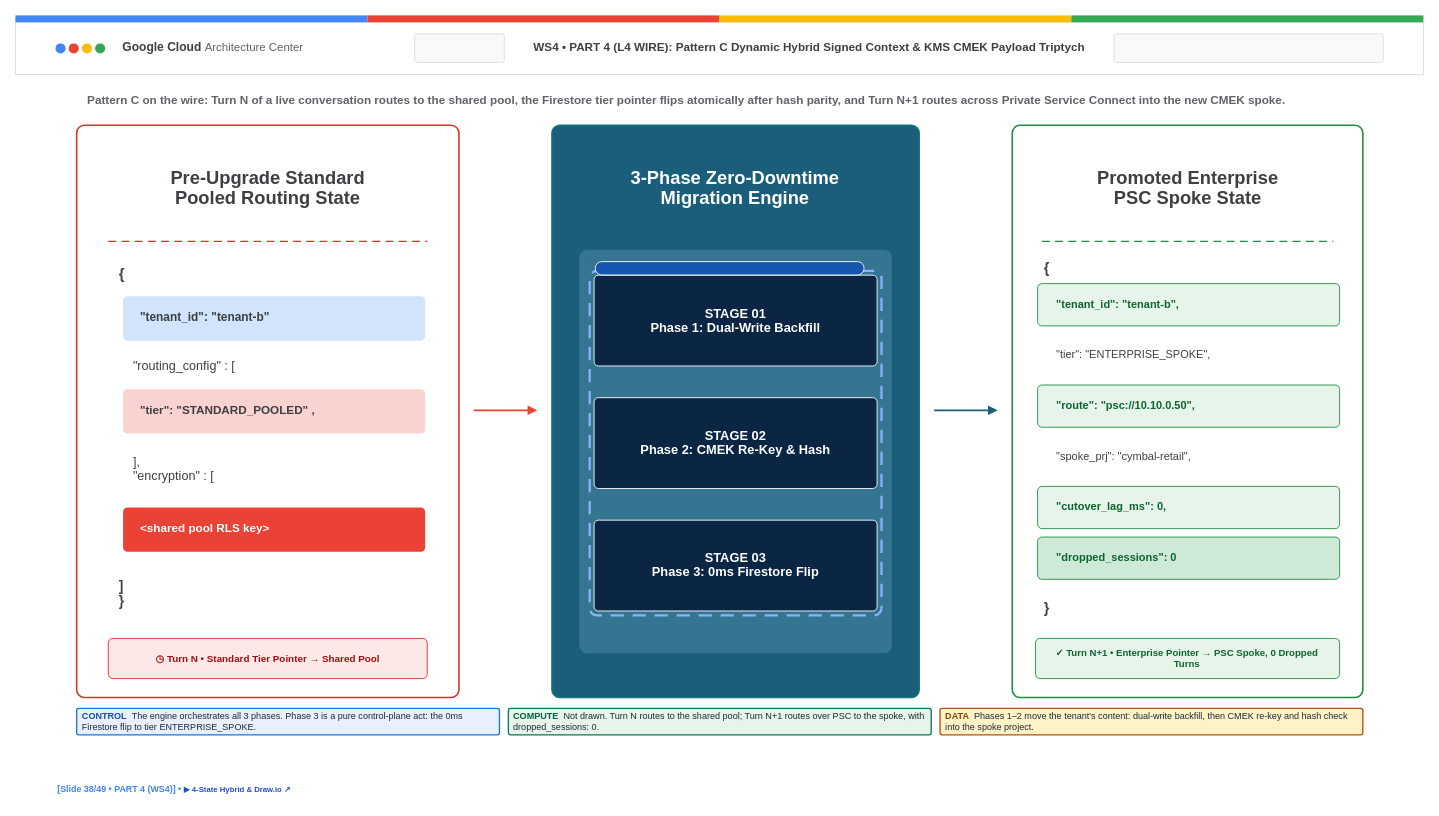
Image size: 1439x816. Some labels were removed from this diagram. Each missing label, with the box of its shape:
CONTROL · migration engine (orchestrates all 3 phases): (594, 261, 864, 275)
PAYLOAD-TRANSFORMATION: (1113, 33, 1383, 62)
WS4: (414, 33, 504, 62)
